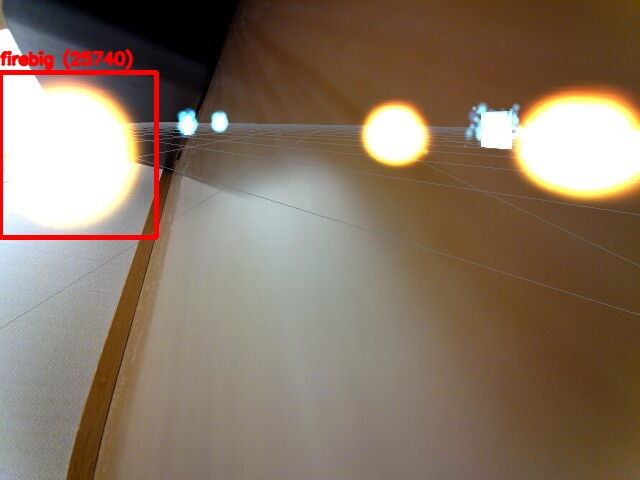firebig: (0, 72, 156, 237)
